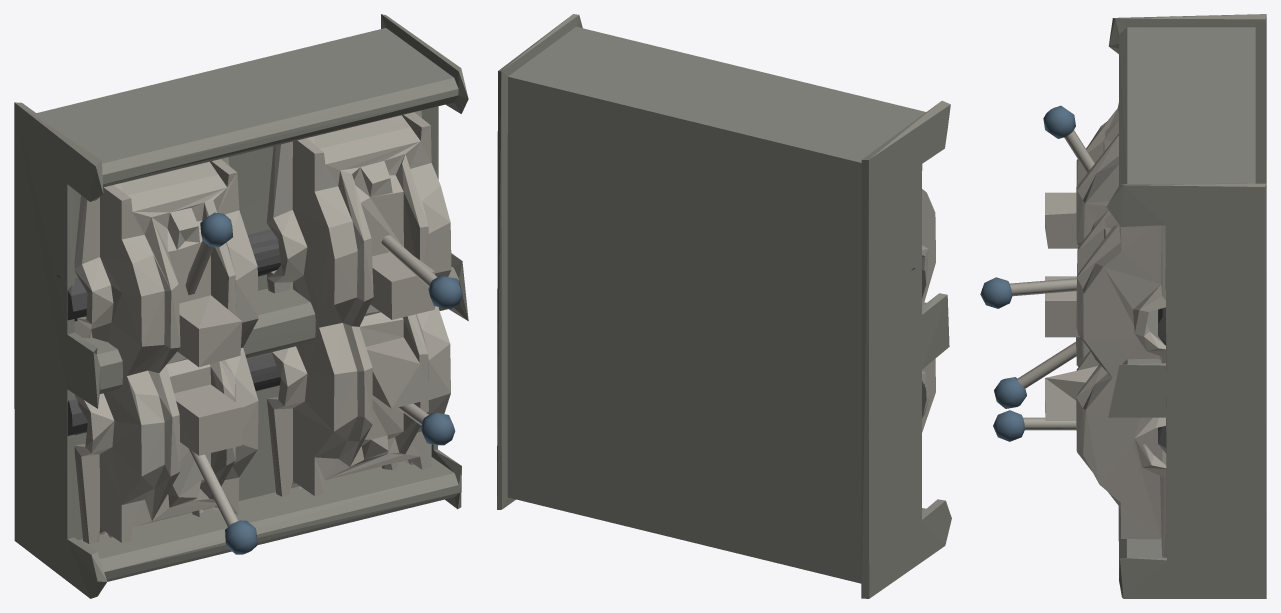
The model's file is control_panel_01.fbx.
3 views of the same model, side by side, from view 1: azimuth 30°, elevation 25°; view 2: azimuth 150°, elevation 25°; view 3: azimuth 270°, elevation 25° (orthographic). The views are drawn at different scales.
Visible parts, largest first — view 1: control_panel_01; view 2: control_panel_01; view 3: control_panel_01.
Boxes of the visible parts, x1=… form: control_panel_01: x1=14, y1=14, x2=468, y2=598; control_panel_01: x1=497, y1=14, x2=951, y2=598; control_panel_01: x1=980, y1=14, x2=1266, y2=598.
Size of the model in its own units: 92.05 by 104 by 65.29.
